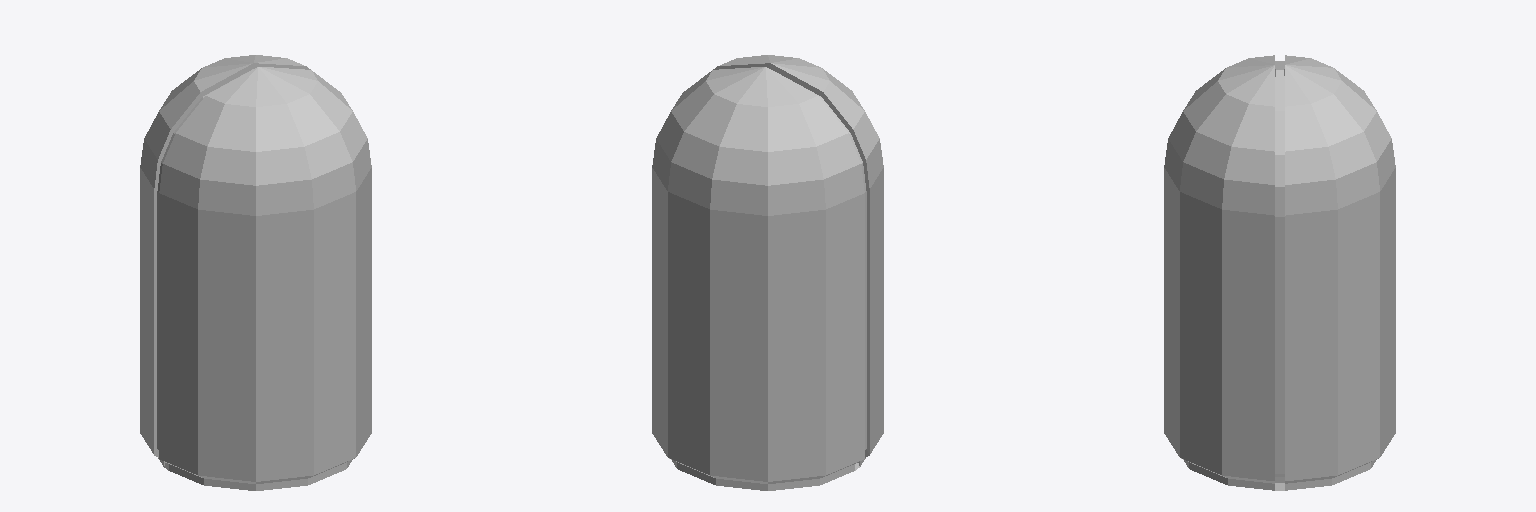
The model's file is Fairings.obj.
The picture shows the model from 3 angles: view 1: azimuth 30°, elevation 25°; view 2: azimuth 150°, elevation 25°; view 3: azimuth 270°, elevation 25°; orthographic projection.
Parts seen in each view (by area): view 1: Fairings_Cylinder.001; view 2: Fairings_Cylinder.001; view 3: Fairings_Cylinder.001.
Boxes of the visible parts, <box> form: Fairings_Cylinder.001: <box>140,55,371,490</box>; Fairings_Cylinder.001: <box>652,55,883,490</box>; Fairings_Cylinder.001: <box>1164,55,1395,490</box>.
Size of the model in its own units: 2.97 by 5.46 by 3.